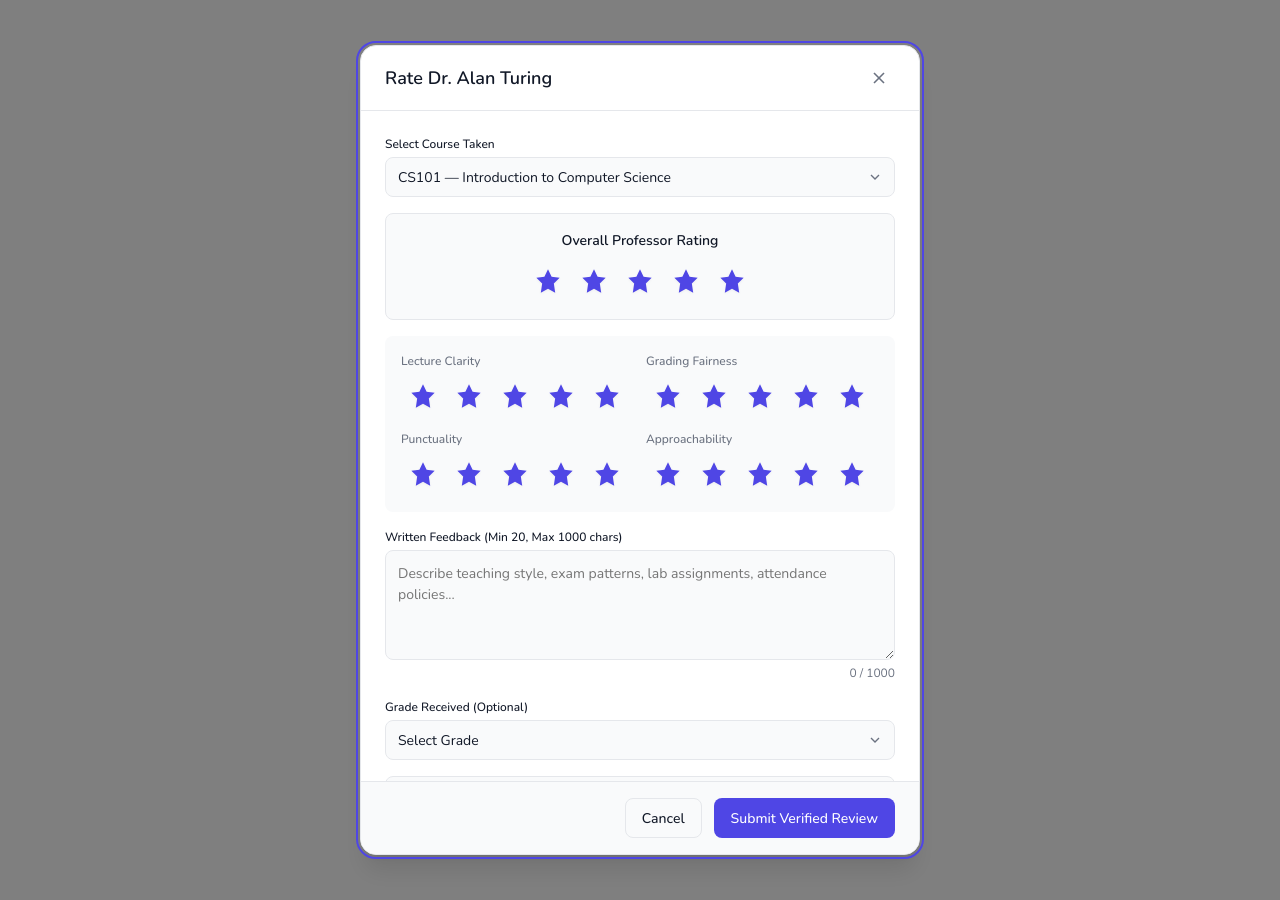
Test case: WriteReviewModal Component › shows error validation when review text is less than 20 characters
The width and height of the screenshot is (1280, 900).
Click the button "Submit Verified Review".
click(804, 818)  # box 714,798 -> 895,838
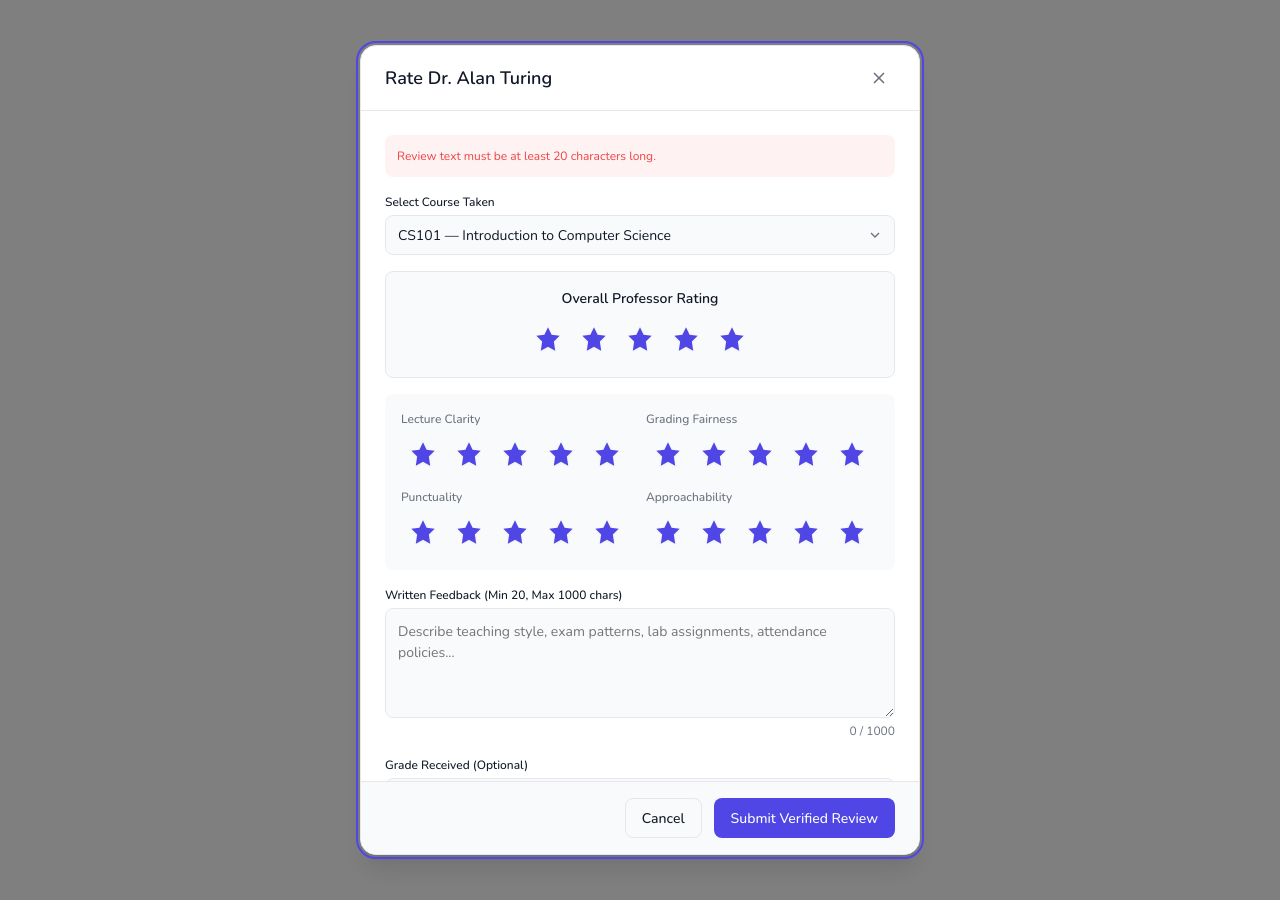
Expected: the text "Review text must be at least 20 characters long." is shown, 385,135 -> 895,177
